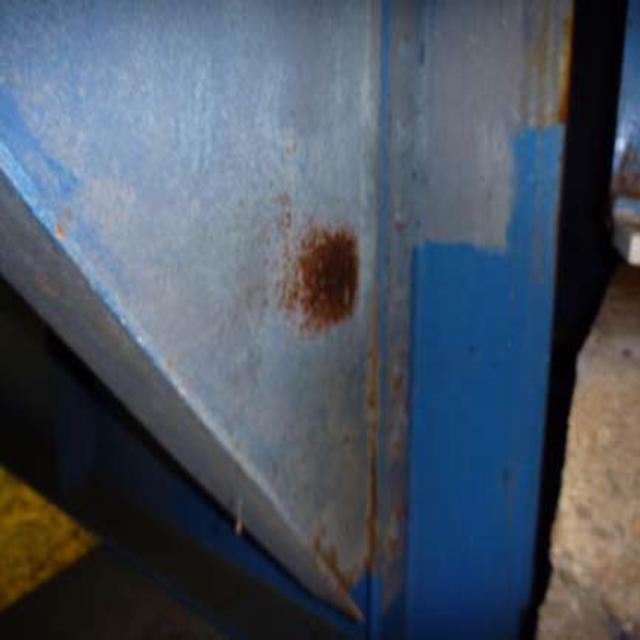corrosion: (550, 8, 633, 433), (267, 183, 354, 336)
